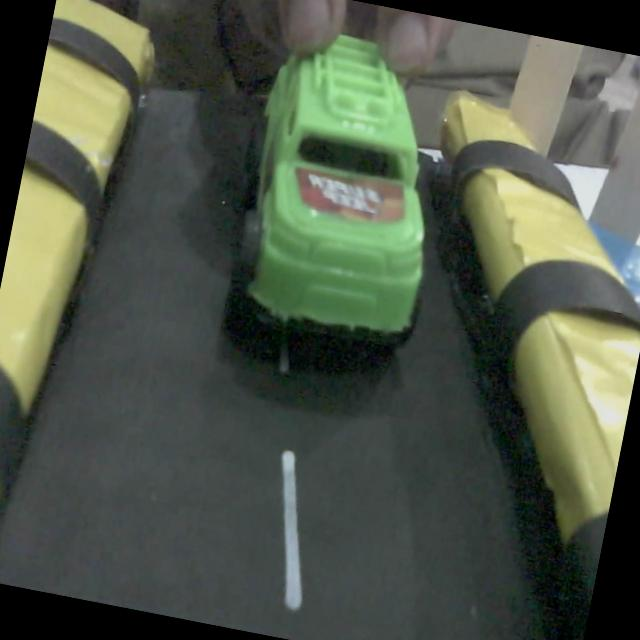OneCar: (233, 36, 423, 345)
